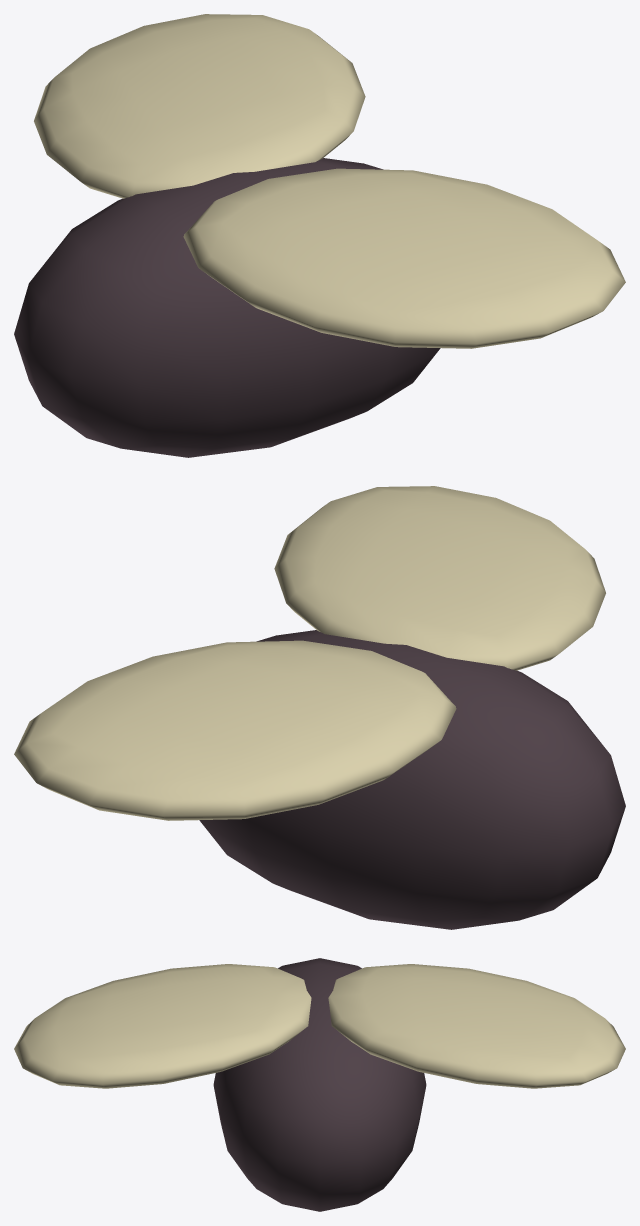
Rendered from Fly.fbx.
3 views of the same model, one above another, from view 1: azimuth 30°, elevation 25°; view 2: azimuth 150°, elevation 25°; view 3: azimuth 270°, elevation 25° (orthographic). The views are drawn at different scales.
Visible parts, largest first — view 1: Fly; view 2: Fly; view 3: Fly.
Boxes of the visible parts, box(x1,y1,x2,y2) form: Fly: box(14, 14, 625, 457); Fly: box(14, 486, 625, 929); Fly: box(14, 958, 625, 1211).
Bounding box in the file's own units: 250 × 146 × 406.
